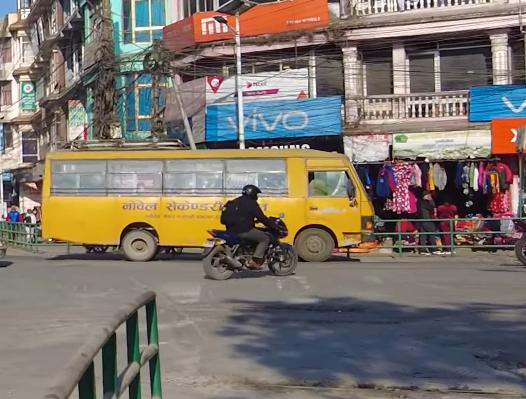bike: (198, 211, 302, 281)
school_bus: (38, 141, 379, 263)
